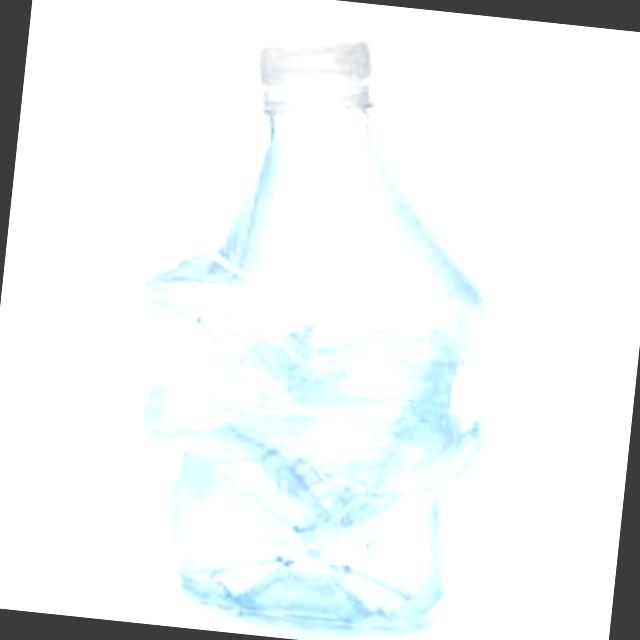trash: (106, 4, 529, 640)
